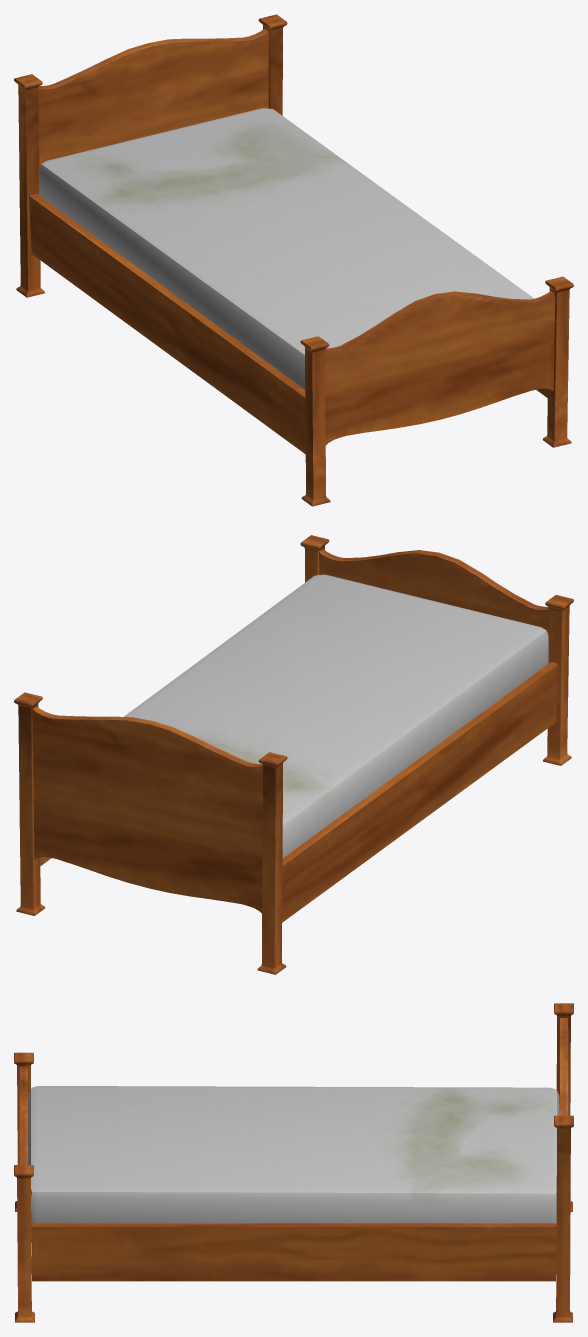
The model's file is single_bed_1.fbx.
3 renders of one model, top to bottom at view 1: azimuth 30°, elevation 25°; view 2: azimuth 150°, elevation 25°; view 3: azimuth 270°, elevation 25°, orthographic. The views are drawn at different scales.
Parts seen in each view (by area): view 1: single_bed_1; view 2: single_bed_1; view 3: single_bed_1.
Boxes of the visible parts, x1,y1,x2,y2 form: single_bed_1: (14,14,573,506); single_bed_1: (14,535,573,974); single_bed_1: (14,1003,573,1322).
Size of the model in its own units: 1.21 by 0.9564 by 2.37.
